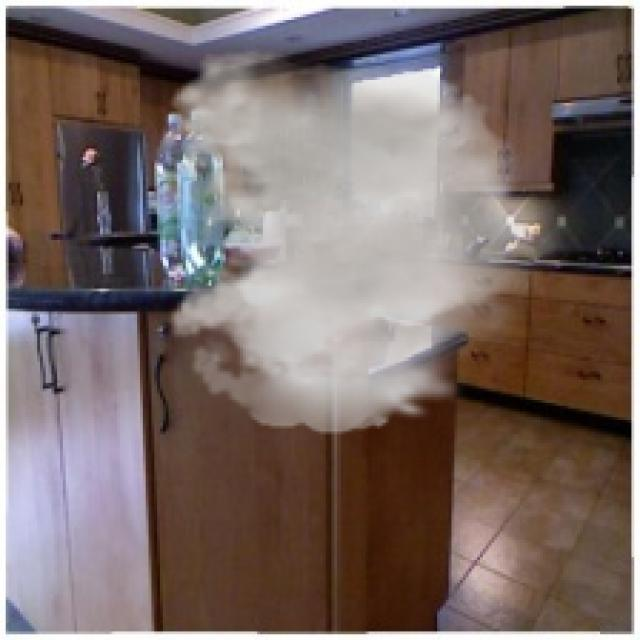smoke: (154, 49, 572, 434)
